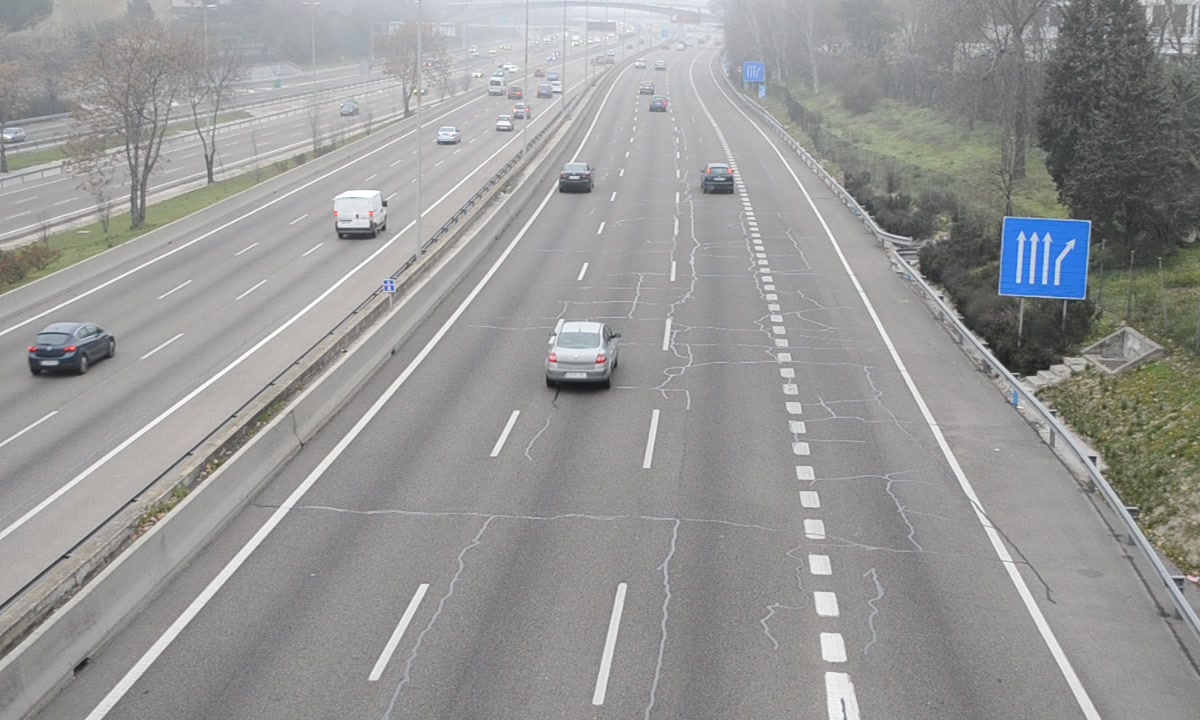car: (548, 324, 616, 387), (559, 161, 593, 194), (702, 163, 735, 195)
